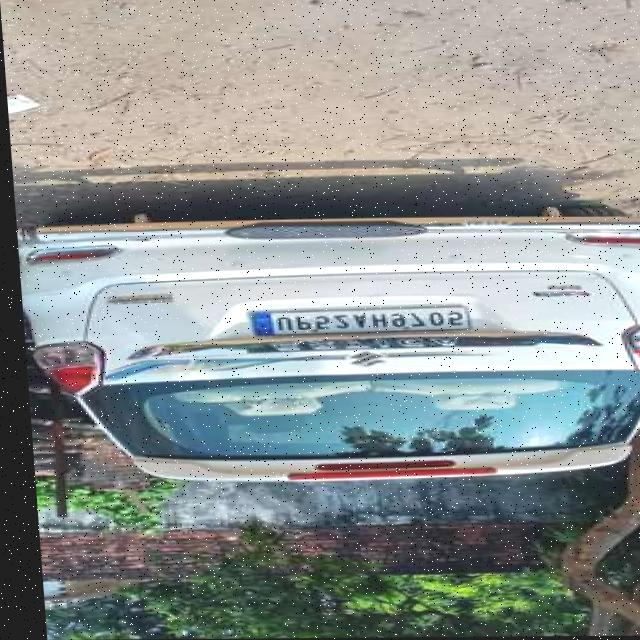plate: (239, 303, 469, 338)
